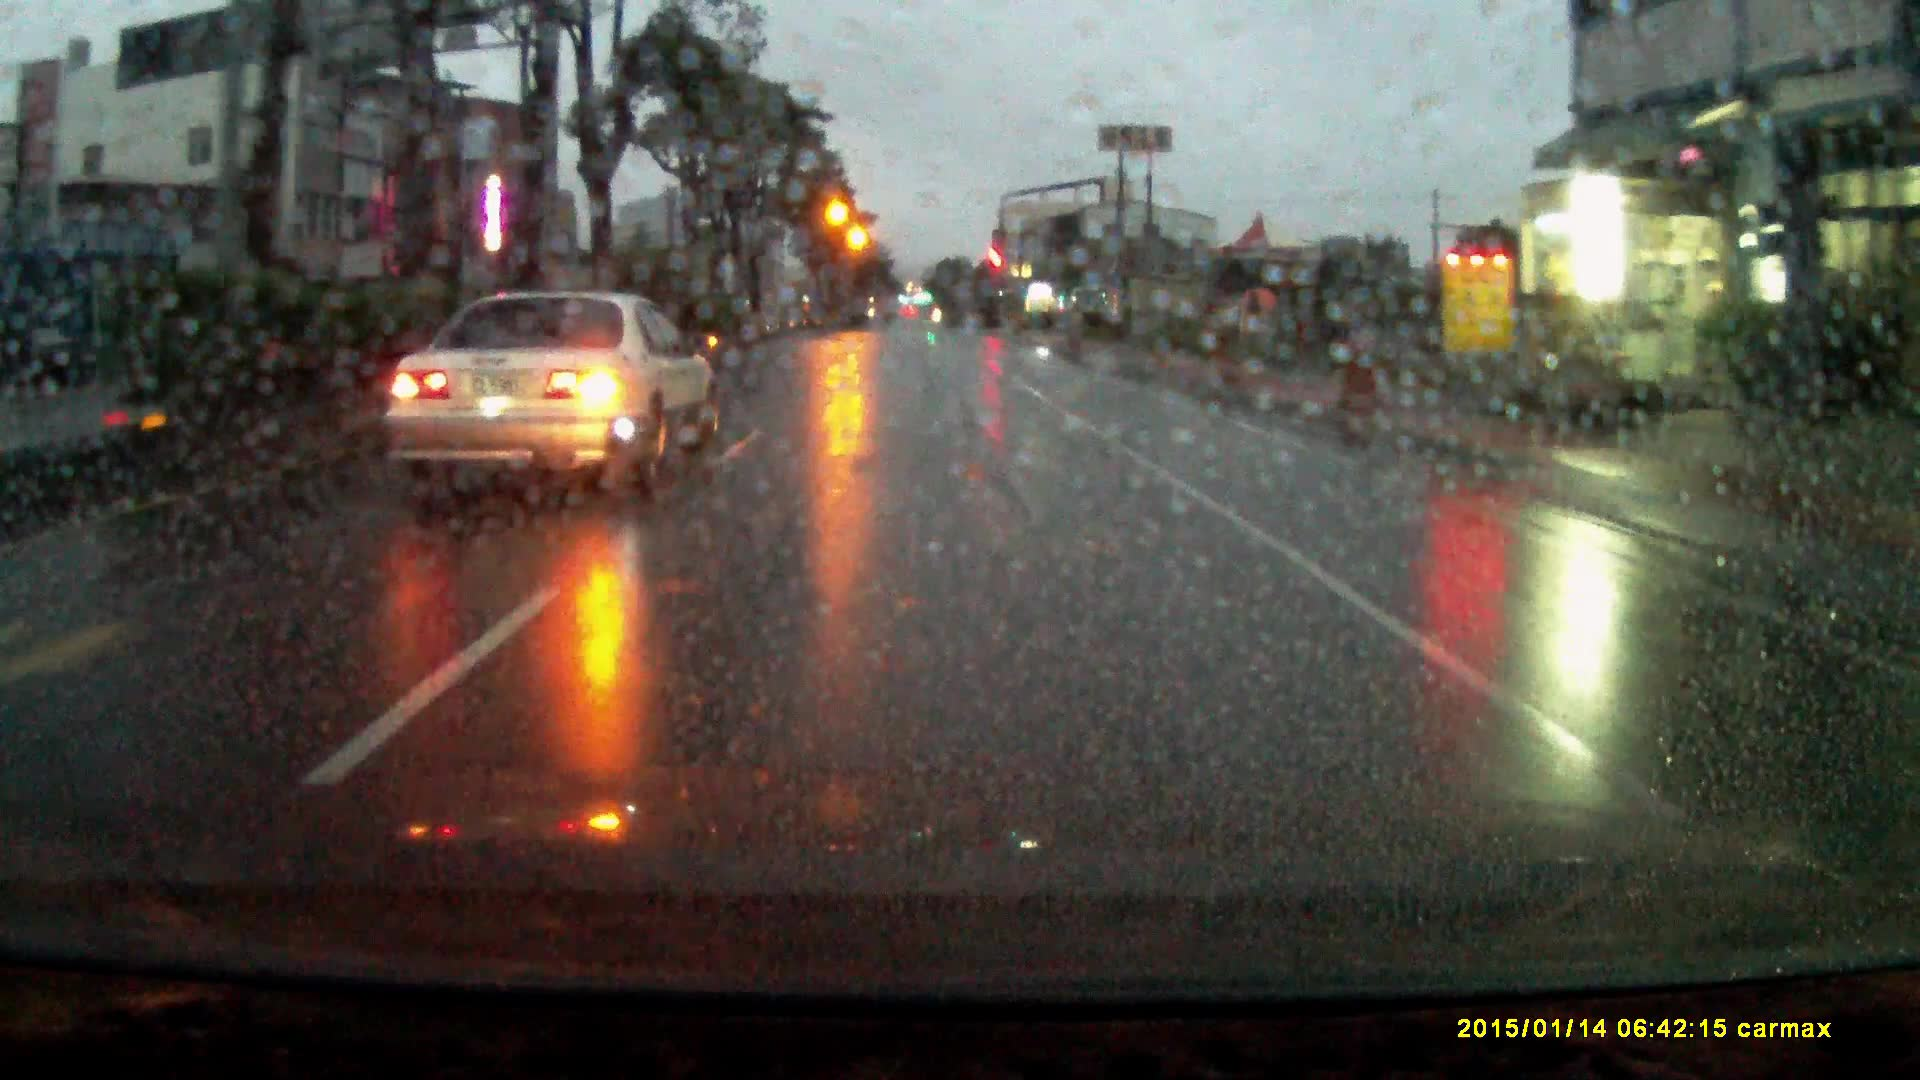vehicle: (380, 289, 724, 506)
